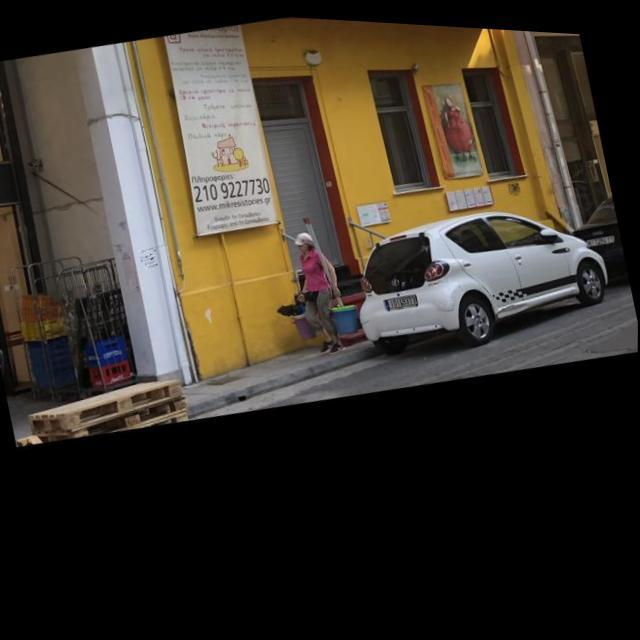-: (138, 244, 160, 271)
